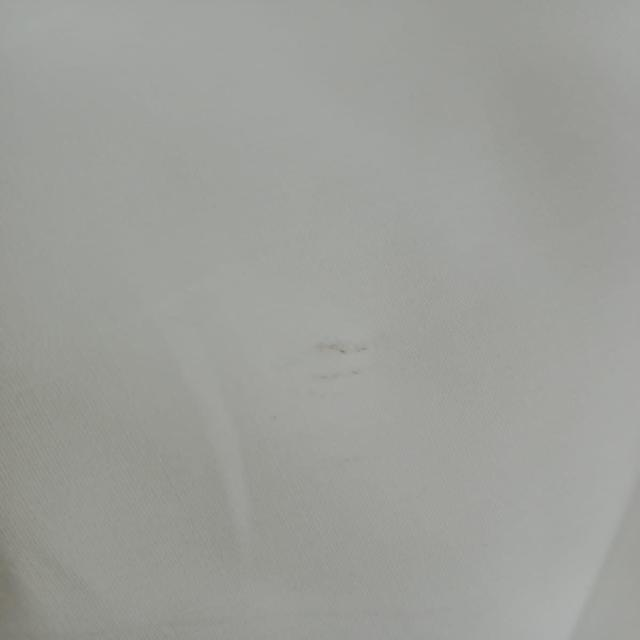stain: (294, 331, 380, 402)
